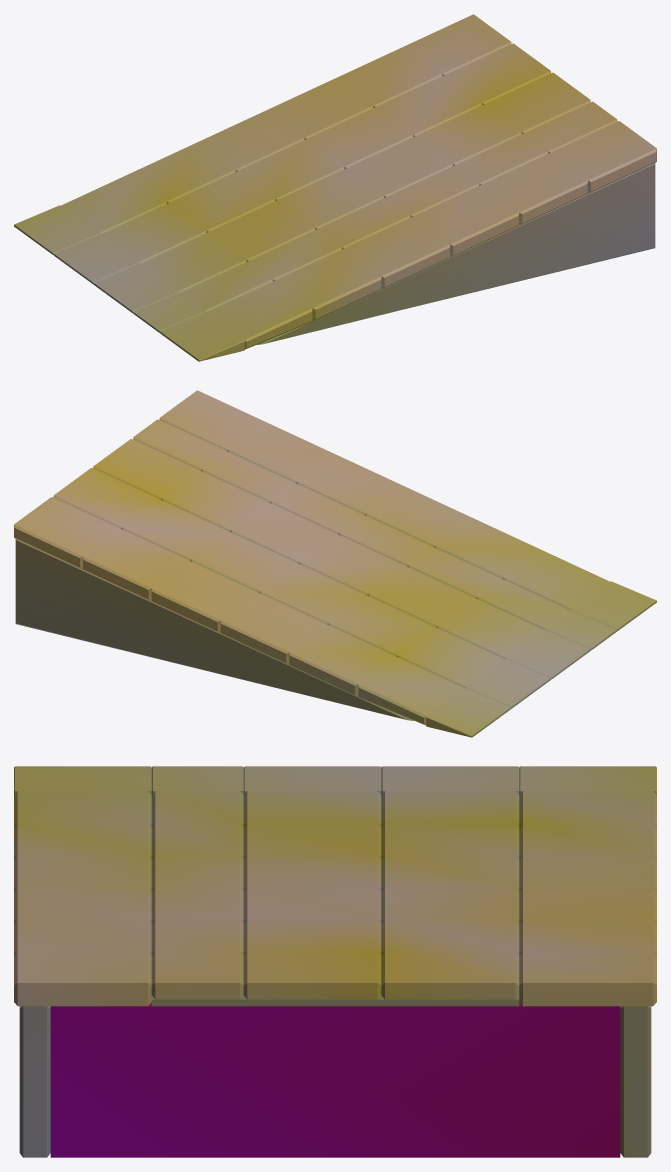
Rendered from Platform_Ramp_Start_NoStripe.glb.
3 renders of one model, top to bottom at view 1: azimuth 30°, elevation 25°; view 2: azimuth 150°, elevation 25°; view 3: azimuth 270°, elevation 25°, orthographic. The views are drawn at different scales.
Parts seen in each view (by area): view 1: Platform_Ramp_Start_NoStripe; view 2: Platform_Ramp_Start_NoStripe; view 3: Platform_Ramp_Start_NoStripe.
Part boxes in pixels (left/top/right/bottom): Platform_Ramp_Start_NoStripe: left=14, top=14, right=656, bottom=361; Platform_Ramp_Start_NoStripe: left=14, top=390, right=656, bottom=737; Platform_Ramp_Start_NoStripe: left=14, top=766, right=656, bottom=1157.
Bounding box in the file's own units: 5 × 1.05 × 3.5.
